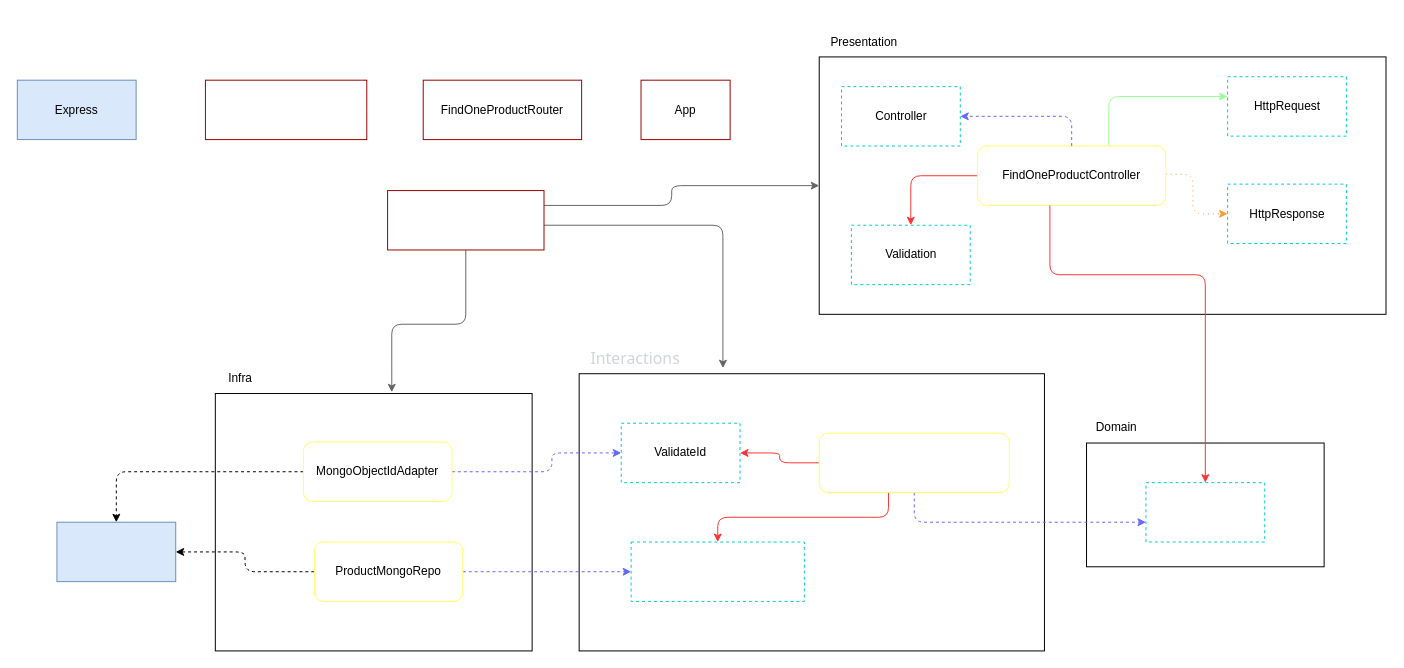
Some shapes in this 1404 by 668 pixel diagram are drawn without their labels. The centre of each missing label's shape, as x and y in pixels:
"ExpressRouterAdapter" goes at point (285, 109).
"FindOneProduct" goes at point (1205, 512).
"FindOneProductFactory" goes at point (465, 220).
"FindOneProductUseCase" goes at point (913, 462).
"FindProductByIdRepo" goes at point (717, 571).
"MongoDb" goes at point (116, 551).
